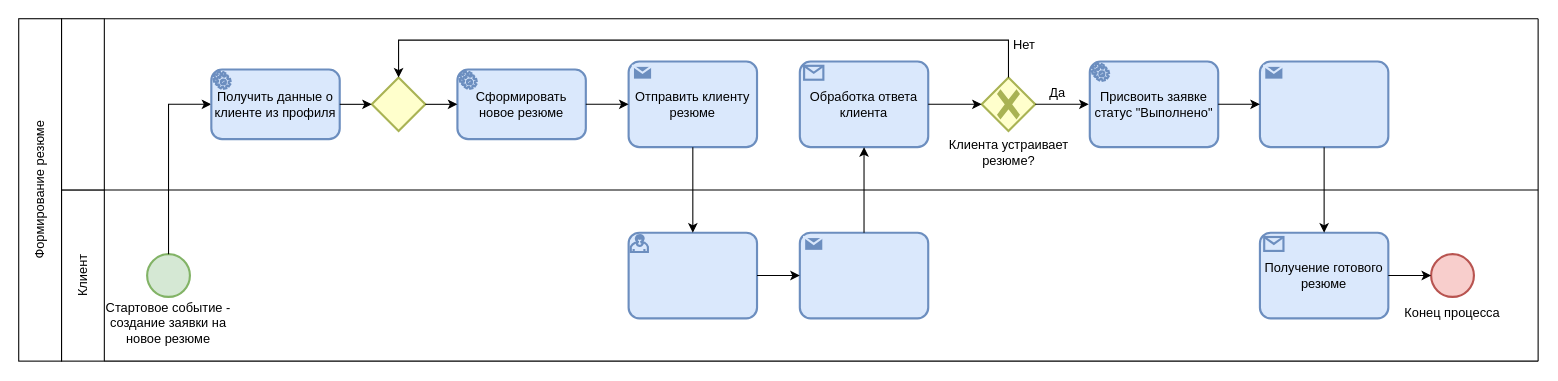
The diagram is 1558 pixels wide and 381 high, and some of its shapes have lost their labels. Each missing label, with the box of its shape:
Отправить клиенту финальную версию резюме: (1258, 60, 1389, 148)
Оценка и примечания к полученному резюме: (798, 231, 929, 319)
Просмотр полученного резюме: (627, 231, 758, 319)
Сервис: (60, 18, 104, 190)
